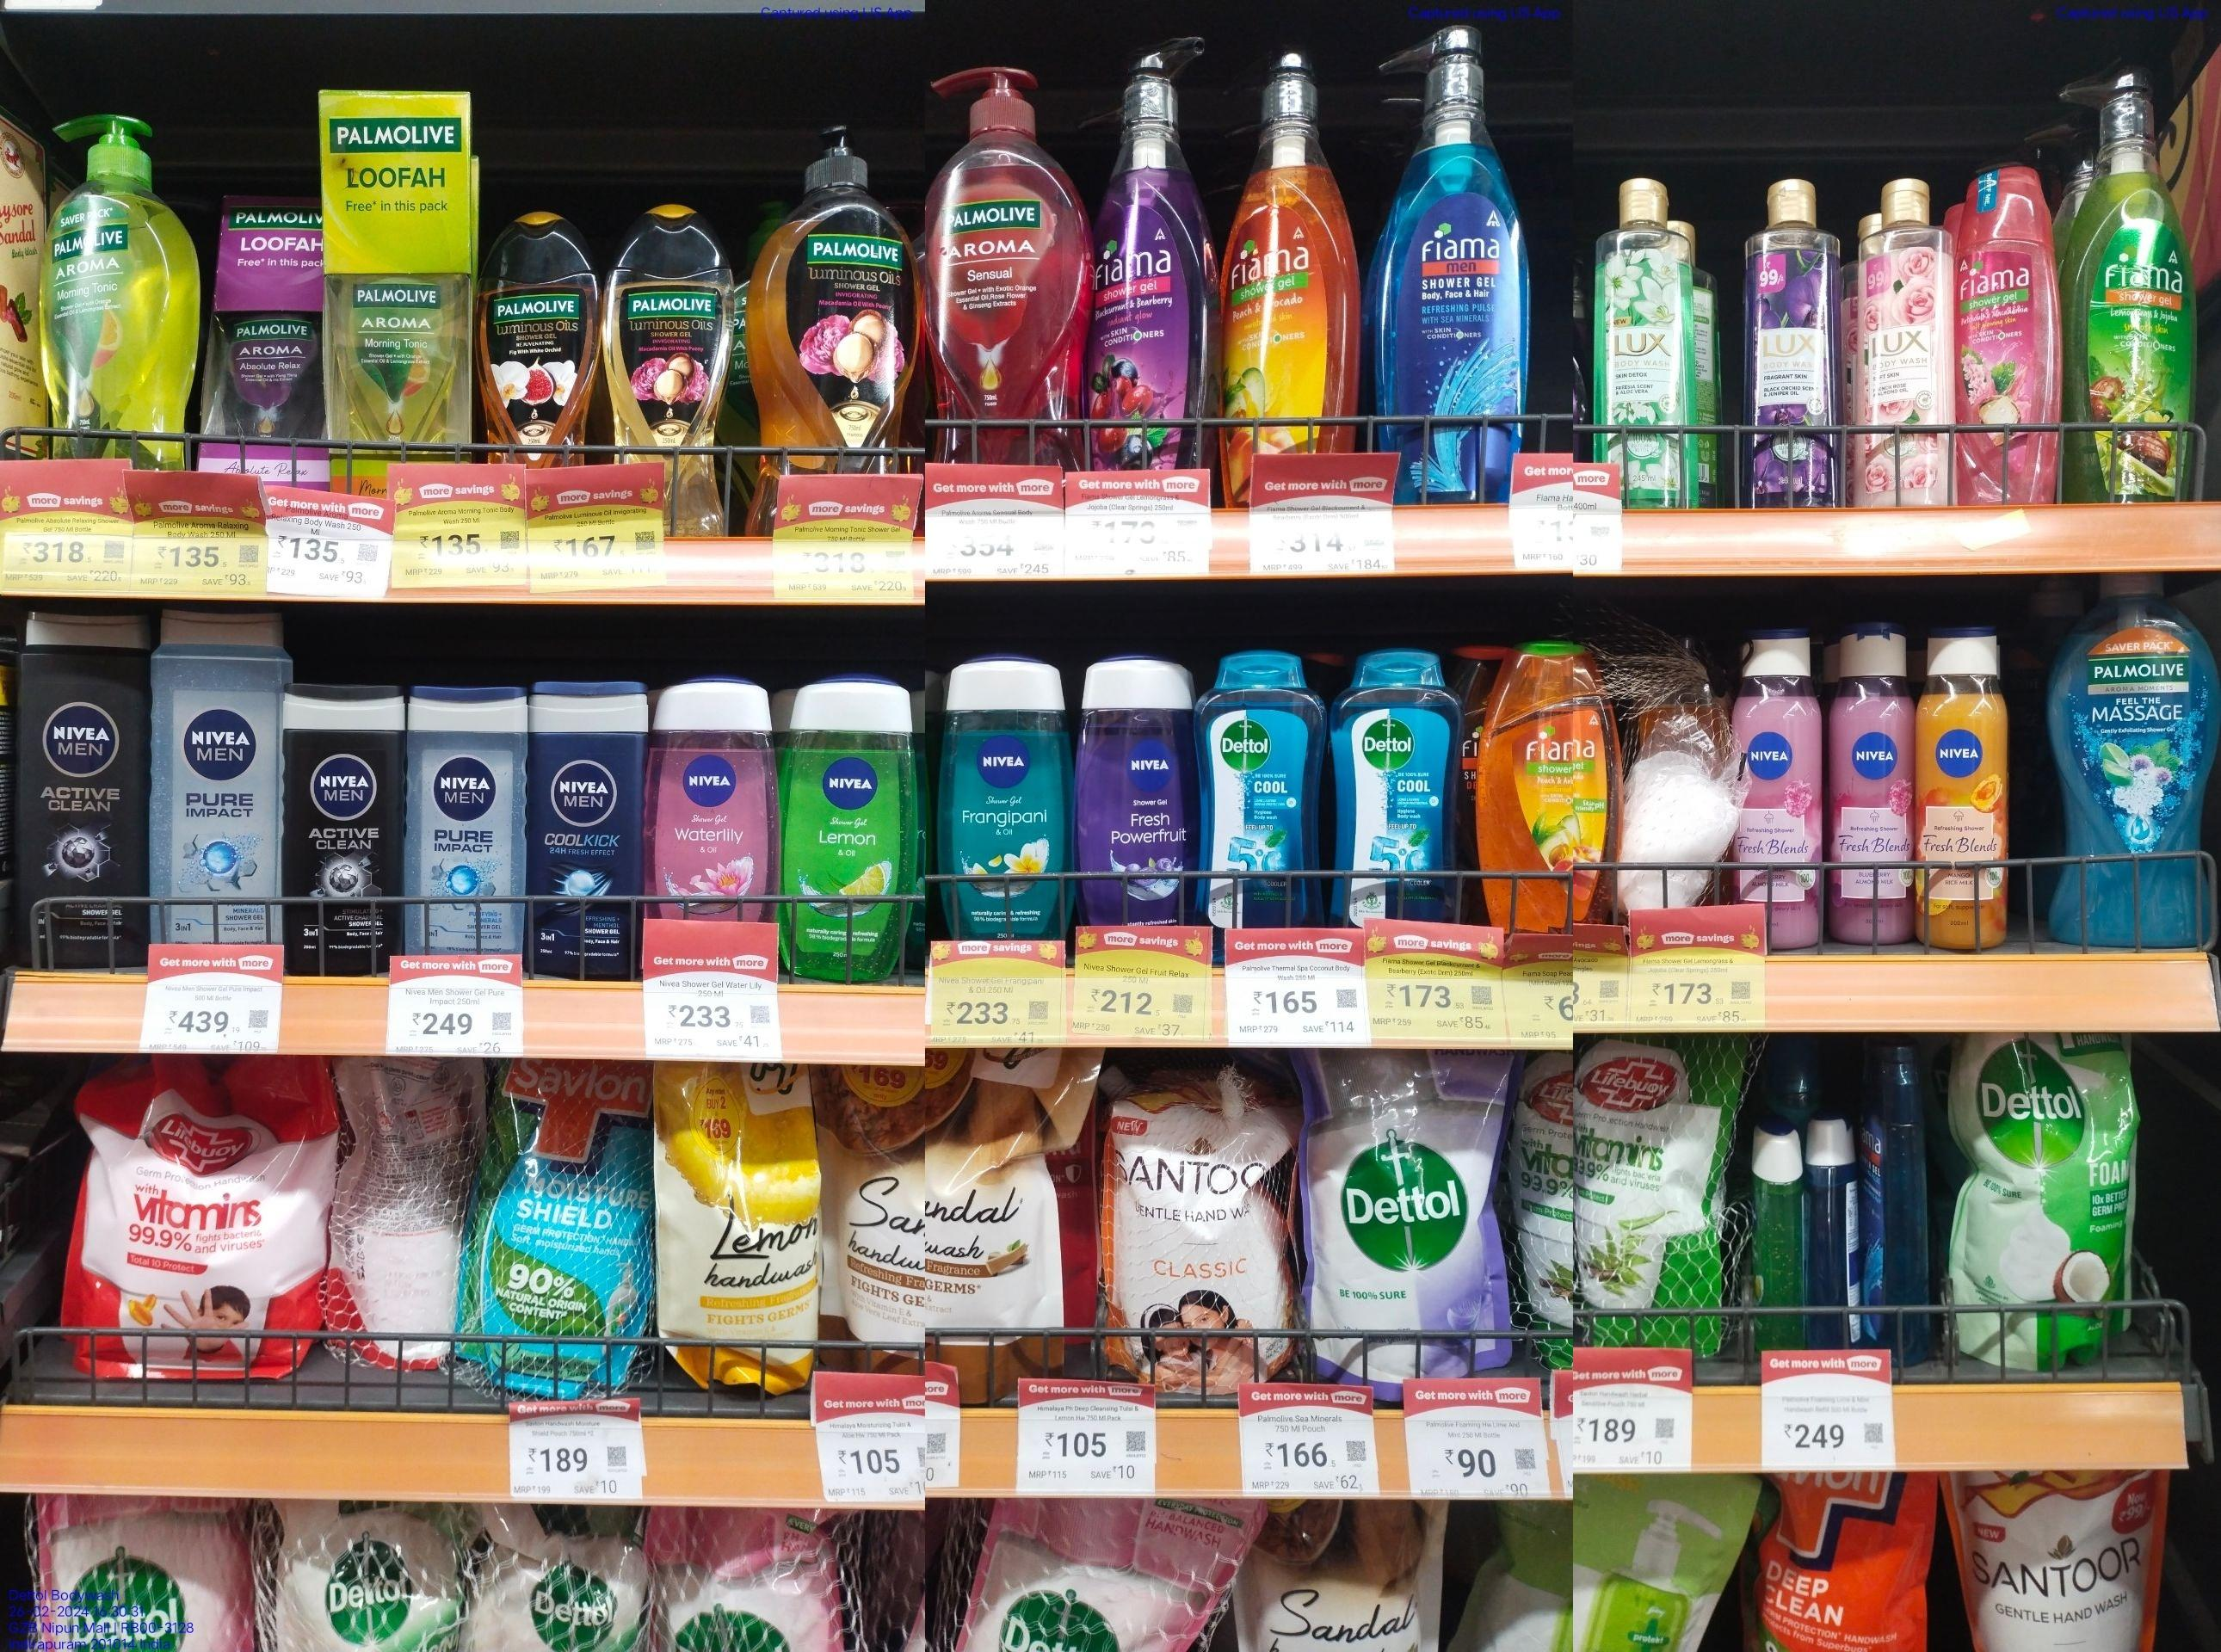Dettol_Bodywash_Cool: (1197, 651, 1322, 930), (1338, 651, 1458, 921)
Fiama_Shower_Gel_Peach_and_Avocado_250ML: (1478, 646, 1614, 930)
Lux_Black_Orchid_Scent_and_Juniper_Oil_Body_Wash_245ML: (1740, 175, 1843, 510)
Lux_Body_Wash_Skin_Detox_Freesia_Scent_and_Alove_Vera_245ML: (1595, 179, 1695, 503), (484, 215, 590, 465)
Nivea_Shower_Gel_Frangipani_and_Oil_250ML: (951, 666, 1071, 930)
Nivea_Shower_Gel_Fresh_Powerfruit_250ML: (1084, 658, 1197, 918)
Nivea_Shower_Gel_Lemon_and_Oil_250ML: (791, 680, 927, 977)
Nivea_Shower_Gel_Waterlily_and_Oil_250ML: (656, 678, 774, 925)
Palmolive_Luminous_Oils_Invigorating_Macadamia_Oil_With_Peony_250ML: (607, 212, 729, 533)
